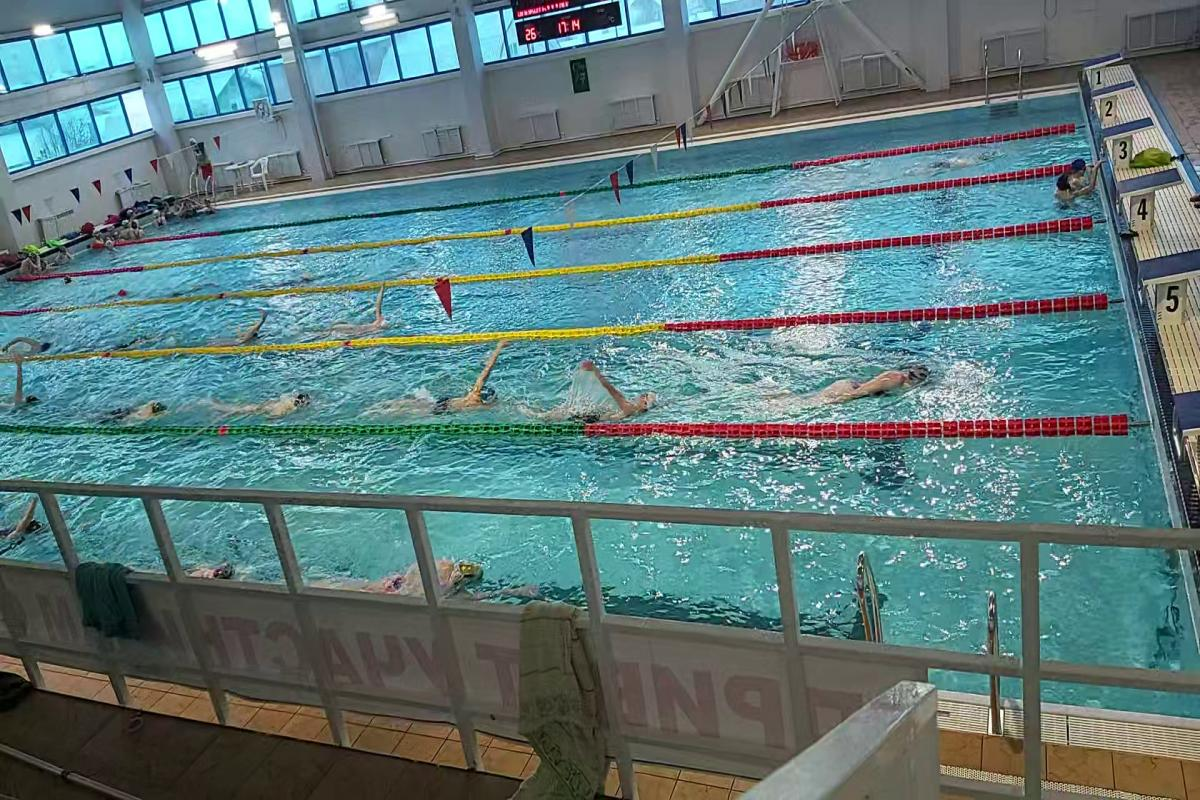swimmer: (330, 548, 508, 600), (555, 348, 671, 419), (813, 350, 937, 411), (406, 346, 510, 414), (211, 382, 317, 422), (96, 390, 178, 428), (167, 545, 245, 580), (0, 497, 47, 554), (332, 293, 397, 333), (230, 308, 272, 348), (3, 326, 59, 354)
